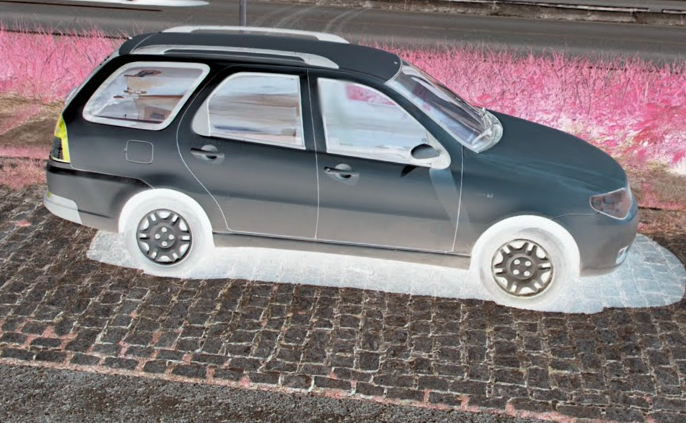car: (38, 22, 641, 310)
